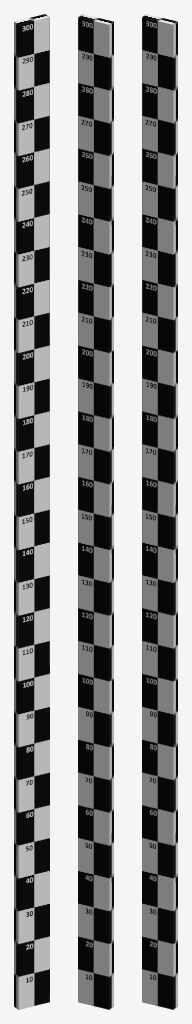
The model's file is ruler.obj.
The picture shows the model from 3 angles, left to right: view 1: azimuth 30°, elevation 25°; view 2: azimuth 150°, elevation 25°; view 3: azimuth 330°, elevation 25°; orthographic projection.
Visible parts, largest first — view 1: ruler; view 2: ruler; view 3: ruler.
Part boxes in pixels (box(x1,y1,x2,y2)): ruler: box(14, 14, 49, 1009); ruler: box(78, 14, 113, 1009); ruler: box(142, 14, 177, 1009).
Size of the model in its own units: 0.1 by 3 by 0.025.
Materials: 1 (1 with a texture image).
